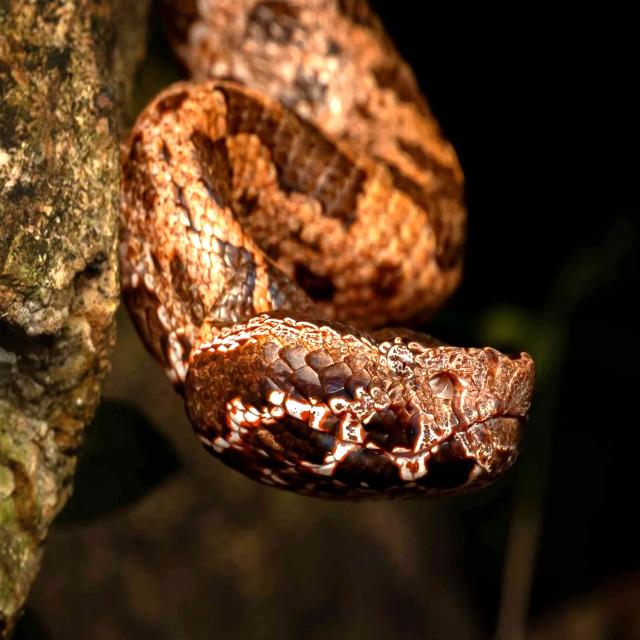Ovophis monticola: (120, 0, 534, 498)
